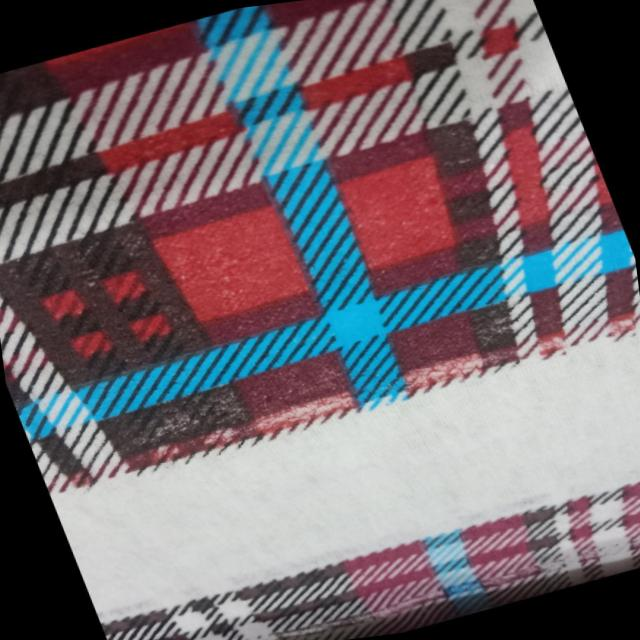selvet: (33, 316, 640, 639)
